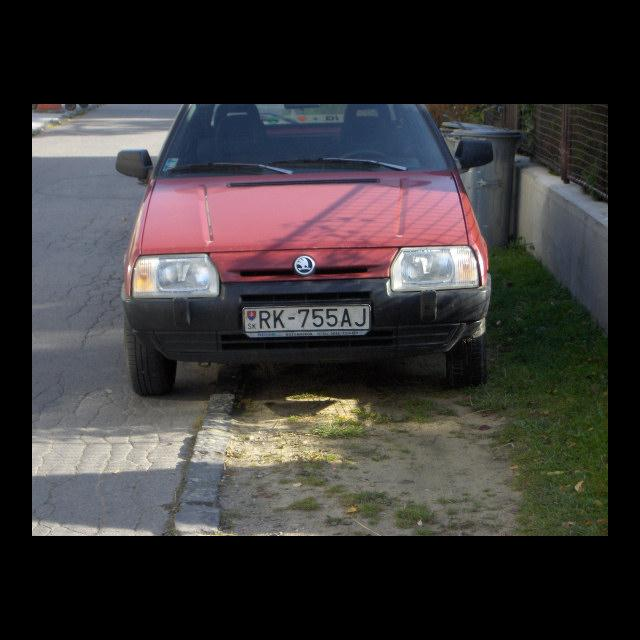Plate: (240, 301, 372, 336)
